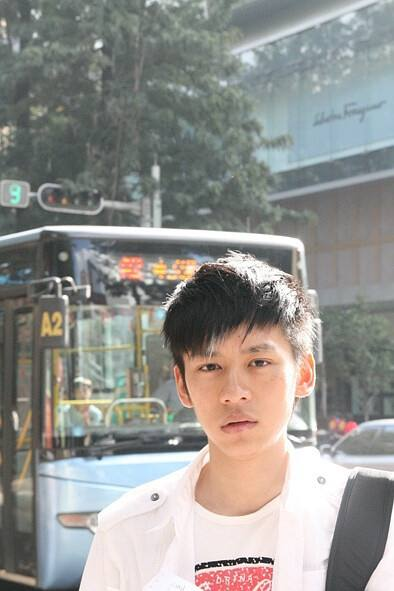person: (82, 197, 358, 591)
